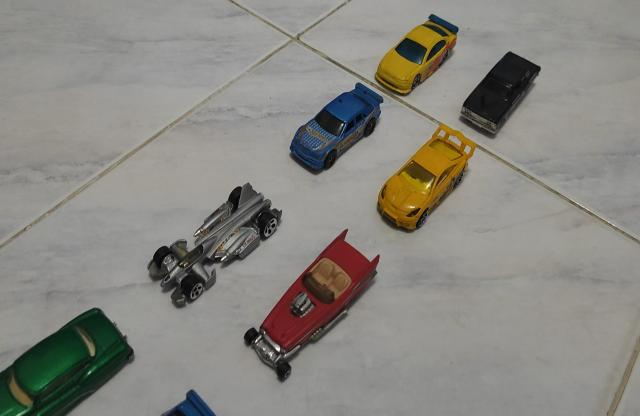01_FORD: (459, 51, 542, 135)
02_OZSOME: (374, 13, 460, 96)
03_V8: (242, 226, 381, 384)
04_MERZEDES: (288, 84, 384, 178), (160, 390, 217, 416)
05_DC121: (146, 184, 283, 311)
06_MASERATI: (0, 308, 134, 416)
07_RHLTURBO: (376, 124, 477, 231)
